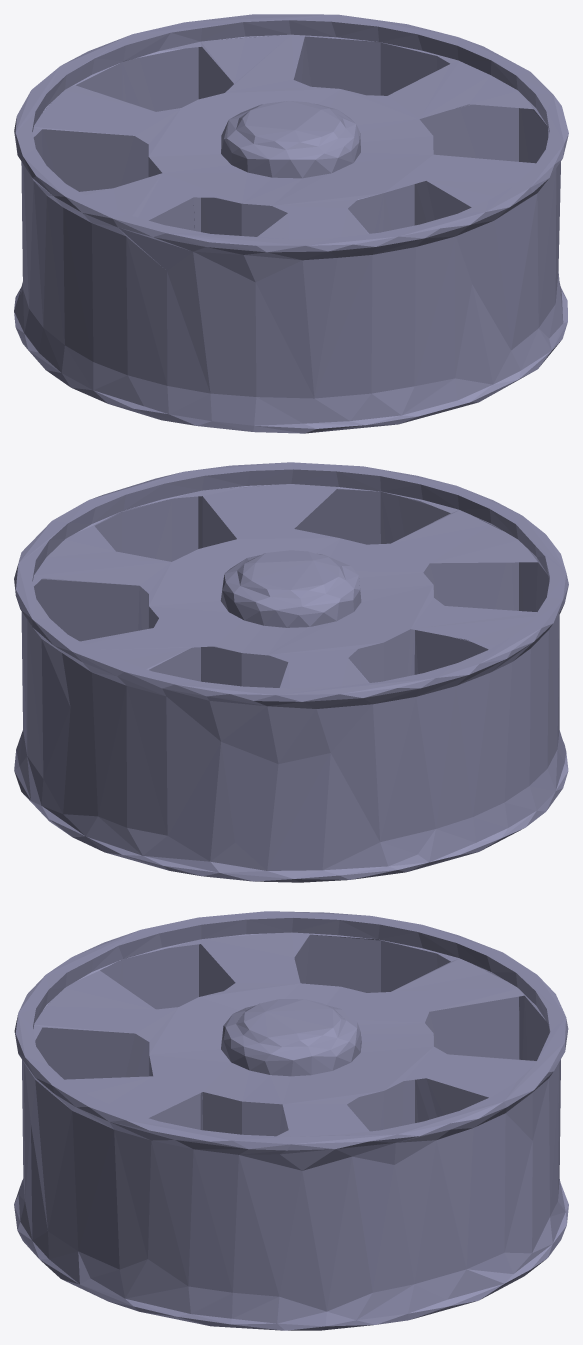
File: carrier_roller_LowPoly.obj
3 renders of one model, top to bottom at view 1: azimuth 30°, elevation 25°; view 2: azimuth 150°, elevation 25°; view 3: azimuth 270°, elevation 25°, orthographic.
Parts seen in each view (by area): view 1: carrier_roller_LowPoly\Facets; view 2: carrier_roller_LowPoly\Facets; view 3: carrier_roller_LowPoly\Facets.
Part boxes in pixels (x1,y1,x2,y2): carrier_roller_LowPoly\Facets: [14, 14, 568, 433]; carrier_roller_LowPoly\Facets: [14, 462, 568, 882]; carrier_roller_LowPoly\Facets: [14, 911, 568, 1330].
Size of the model in its own units: 0.1571 by 0.0623 by 0.1574.
